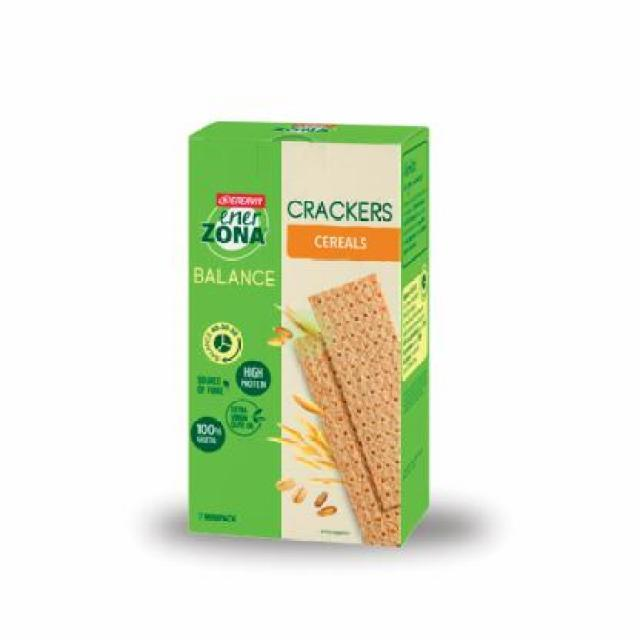Cracker: (179, 112, 435, 546)
